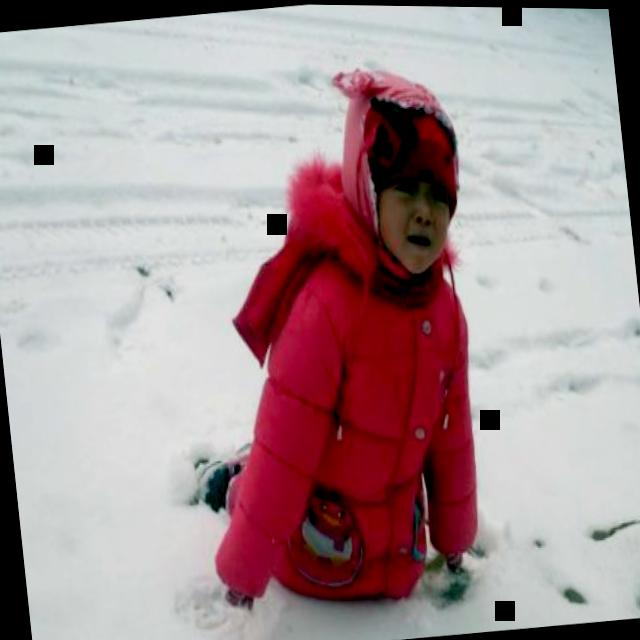Fall-Detected: (132, 38, 505, 616)
